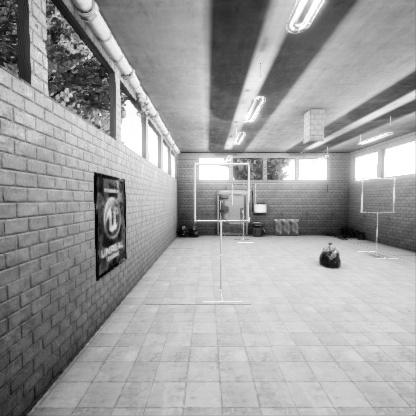gate: (195, 196, 253, 254), (364, 204, 400, 239), (231, 207, 257, 233)
